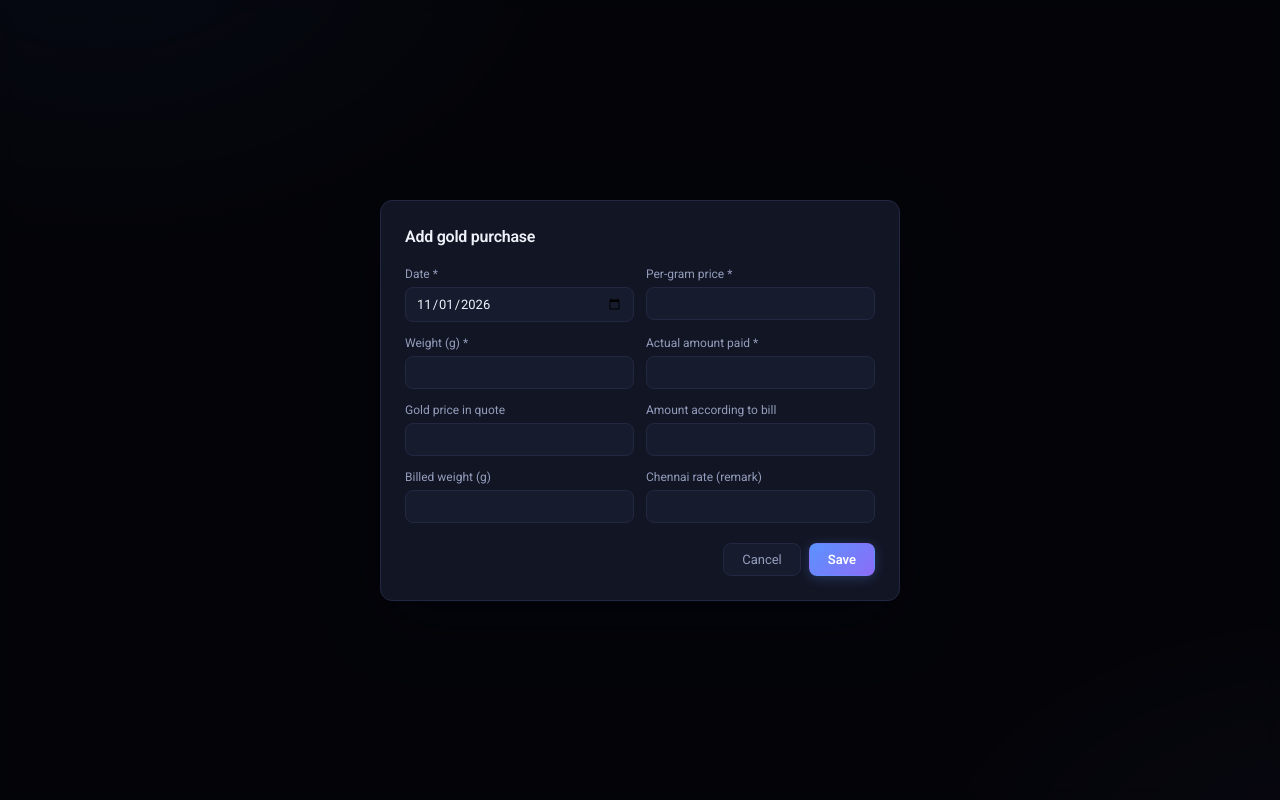
it: GoldTxnModal › rejects an empty required amount instead of submitting zero
The image size is (1280, 800).
Type "2026-07-01" into the date field labelled "Date *" at x=520, y=304, box x1=405 y1=286 x2=634 y2=322
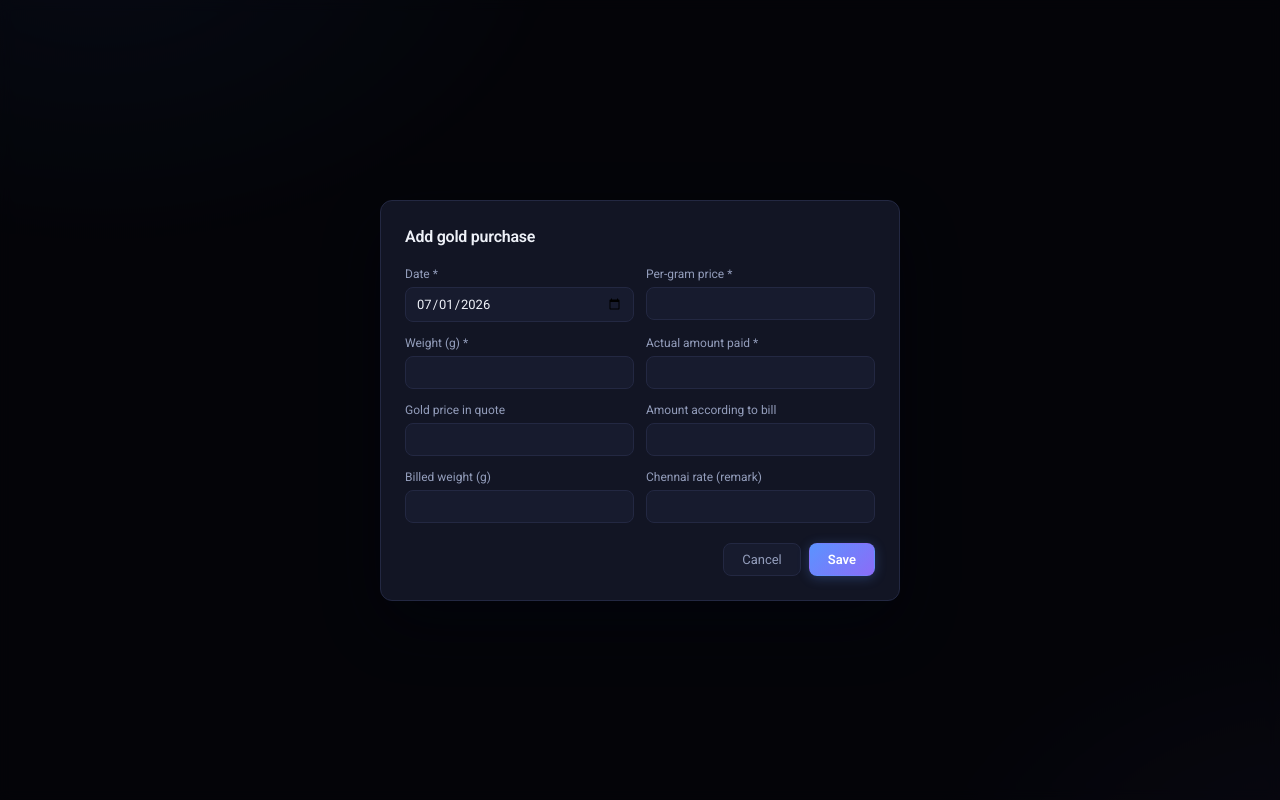
Type "7275" into the field labelled "Per-gram price *" at x=760, y=303, box x1=646 y1=286 x2=875 y2=320
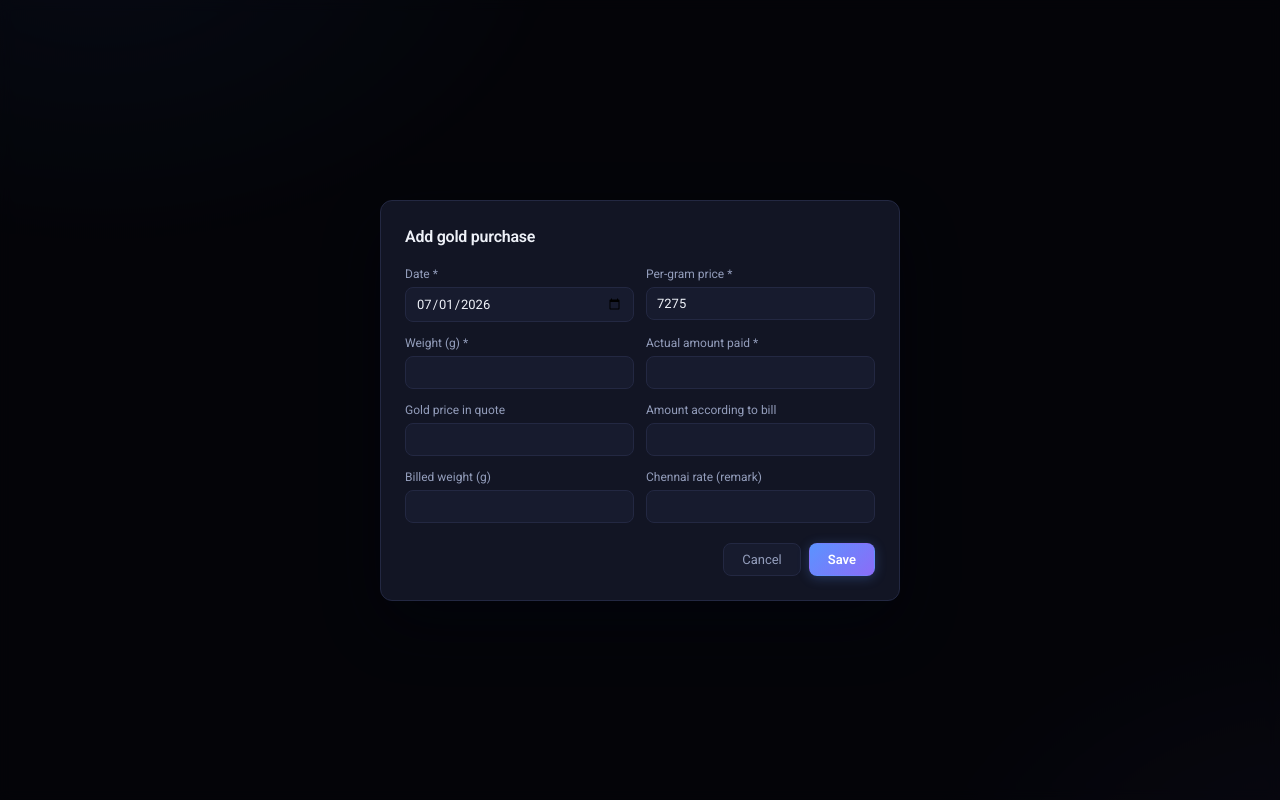
Type "8" into the field labelled "Weight (g) *" at x=520, y=372, box x1=405 y1=356 x2=634 y2=388
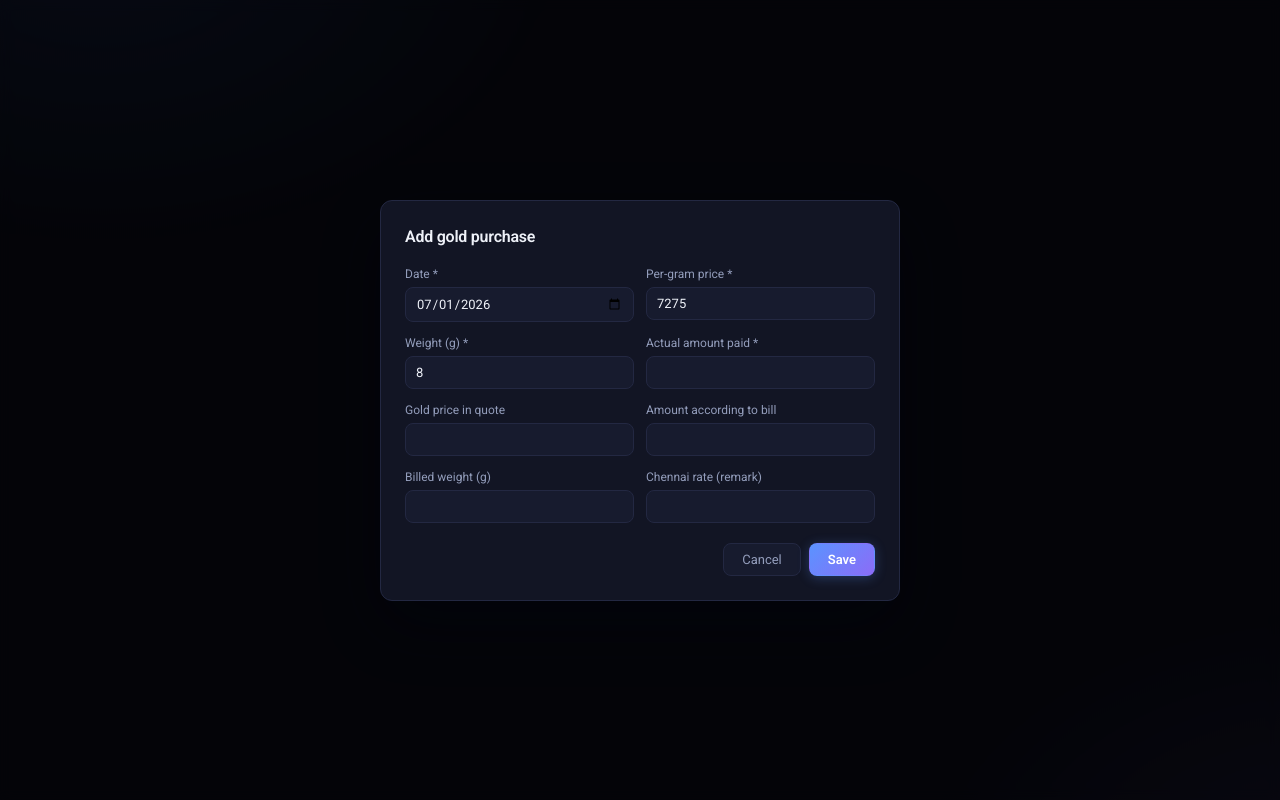
Click the button "Save" at x=842, y=559, box x1=809 y1=542 x2=875 y2=576
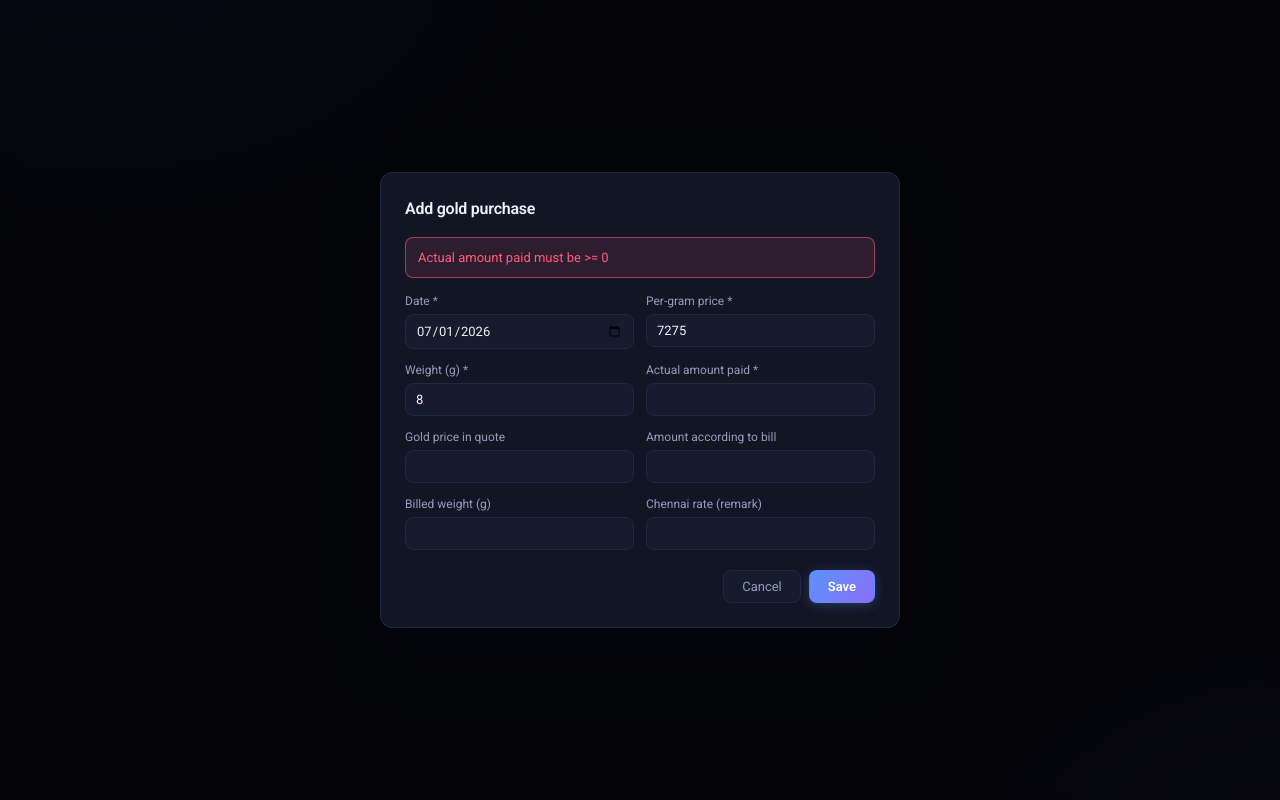
Result: the text "Actual amount paid must be >= 0" is shown at x1=405 y1=237 x2=875 y2=278
